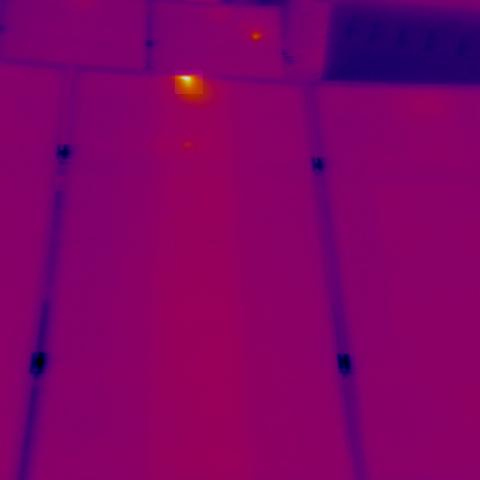fault: (176, 70, 204, 94)
